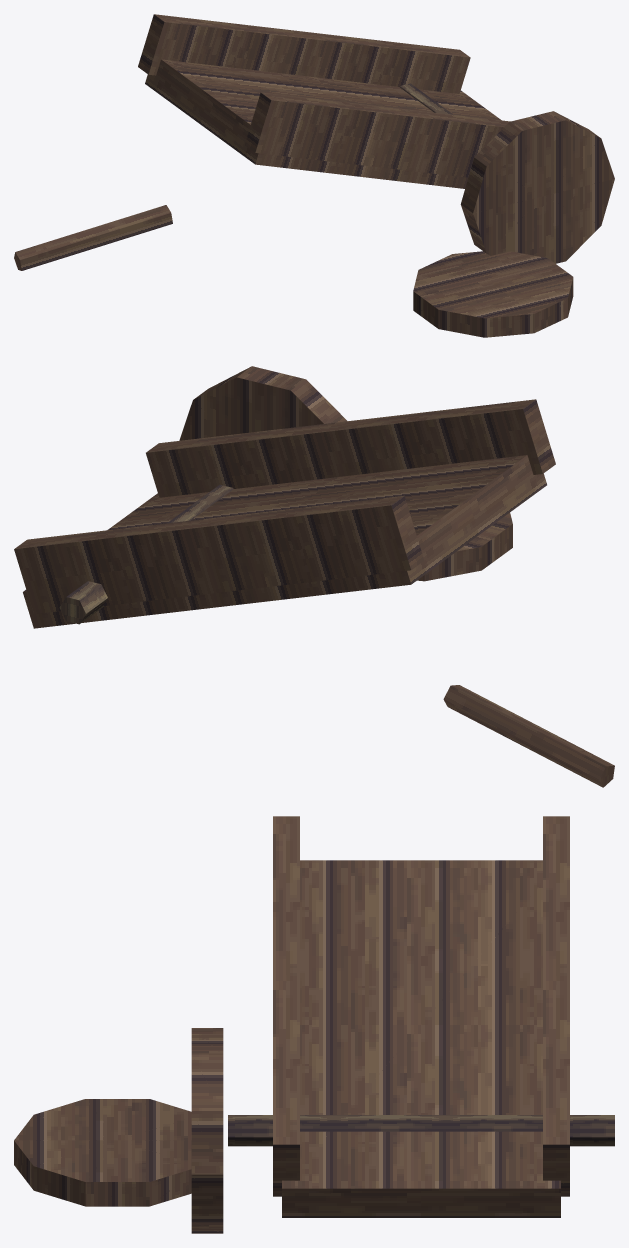
The model's file is cart_broken.glb.
The picture shows the model from 3 angles, top to bottom: view 1: azimuth 30°, elevation 25°; view 2: azimuth 150°, elevation 25°; view 3: azimuth 270°, elevation 25°; orthographic projection. The views are drawn at different scales.
Parts seen in each view (by area): view 1: cart_broken; view 2: cart_broken; view 3: cart_broken.
Boxes of the visible parts, x1,y1,x2,y2 form: cart_broken: (14,14,614,337); cart_broken: (14,366,614,787); cart_broken: (14,816,614,1233).
Size of the model in its own units: 3.04 by 1.27 by 2.67.
Materials: 2 (2 with a texture image).
